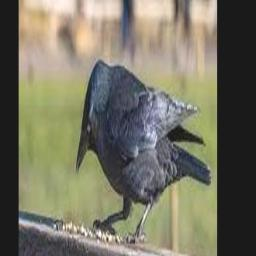Crow: (76, 58, 212, 243)
